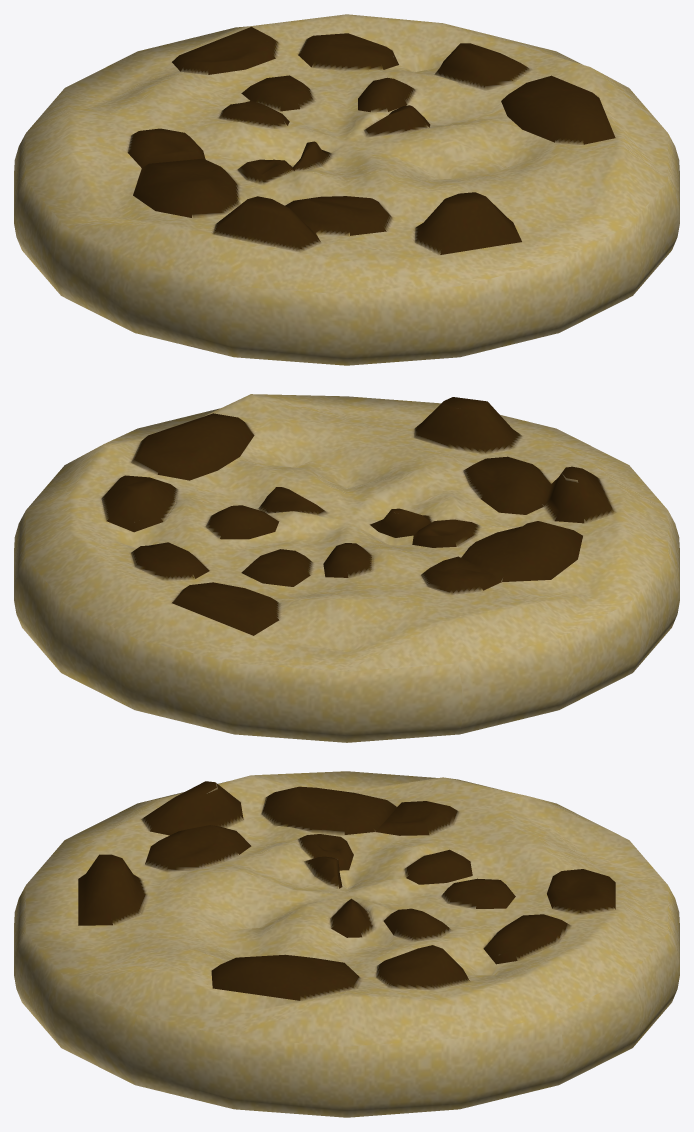
File: Cookie.FBX
3 views of the same model, one above another, from view 1: azimuth 30°, elevation 25°; view 2: azimuth 150°, elevation 25°; view 3: azimuth 270°, elevation 25° (orthographic).
Visible parts, largest first — view 1: Cylinder001; view 2: Cylinder001; view 3: Cylinder001.
Boxes of the visible parts, x1,y1,x2,y2 form: Cylinder001: (14, 14, 679, 365); Cylinder001: (14, 394, 679, 742); Cylinder001: (14, 771, 679, 1117).
Size of the model in its own units: 103 by 19.39 by 101.
